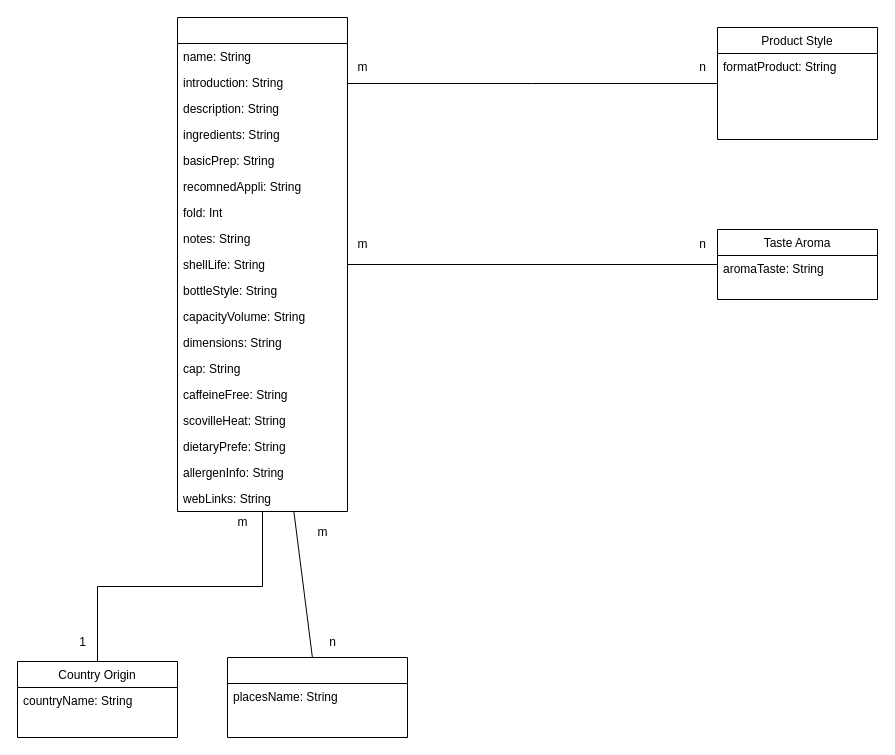
Some shapes in this 895 by 755 pixel diagram are drawn without their labels. Here are the shapes that lost their labels. From the top down, the box of each, then its label:
(176, 16, 348, 512): Spices
(226, 656, 408, 738): Cuisine
